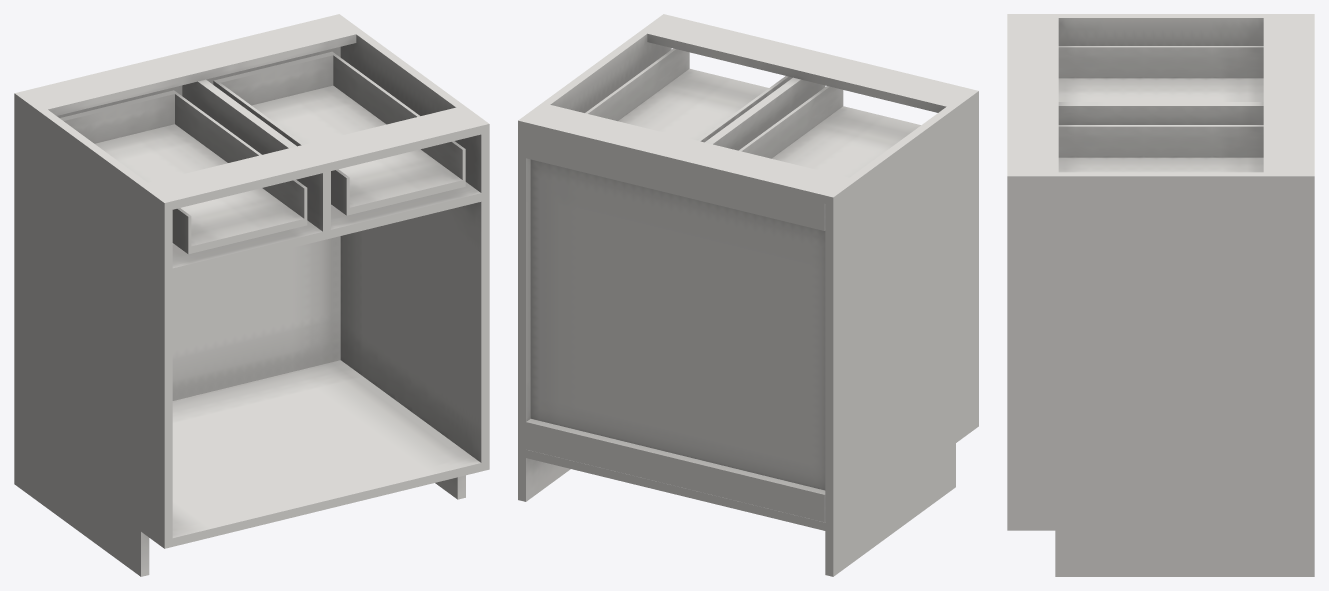
The model's file is 2-door-2-drawer-base-doors-off.glb.
The picture shows the model from 3 angles, left to right: view 1: azimuth 30°, elevation 25°; view 2: azimuth 150°, elevation 25°; view 3: azimuth 270°, elevation 25°; orthographic projection. The views are drawn at different scales.
Parts seen in each view (by area): view 1: part_0, part_7; view 2: part_0, part_7; view 3: part_0, part_7.
Part boxes in pixels (x1,y1,x2,y2): part_0: (14, 14, 489, 576); part_7: (60, 51, 465, 254); part_0: (518, 14, 978, 576); part_7: (585, 48, 920, 177); part_0: (1007, 14, 1314, 576); part_7: (1058, 46, 1263, 172).
Bounding box in the file's own units: 0.762 × 0.8763 × 0.6096.
Materials: 2 (1 with a texture image).
